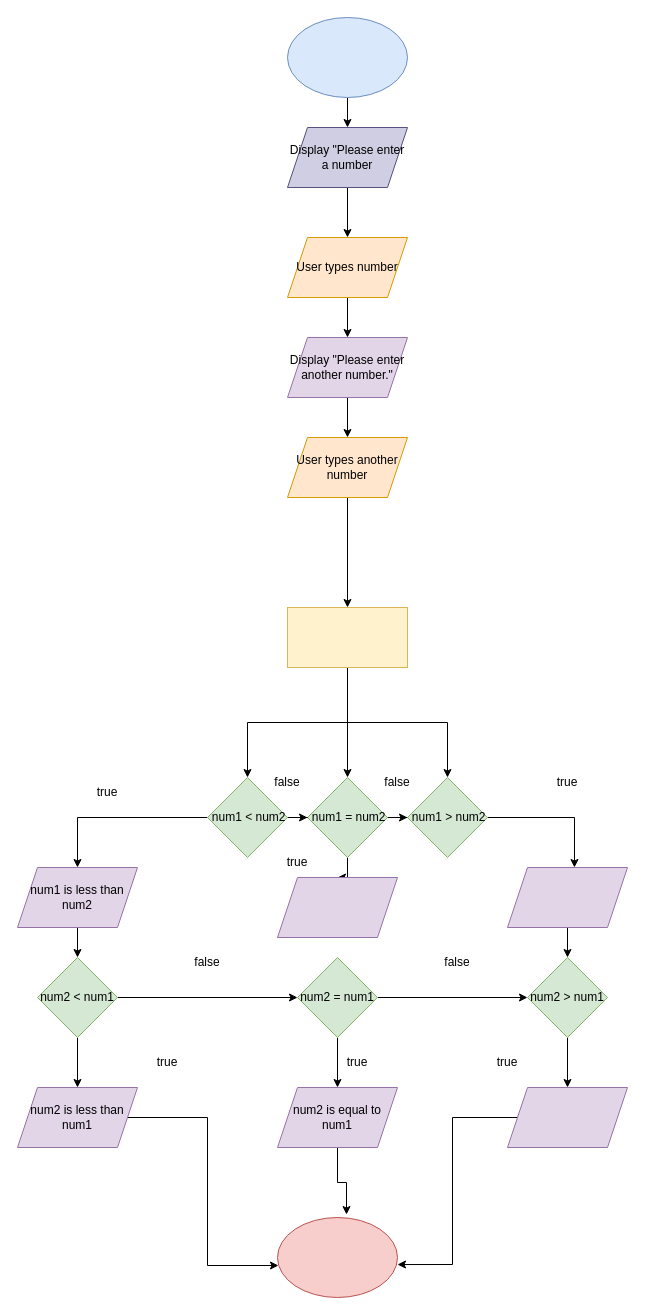
This 645x1315 diagram has some shape labels left out. The shapes that lost their labels are listed below. From the top down, each one's centre as x and y in pixels, then its label:
At [347,57]: "Start".
At [347,637]: "num1 =Convert.ToInt32() num2 = Convert.ToInt32()".
At [337,907]: "num1 is equal to num2".
At [567,897]: "num1 is greater than num2".
At [567,1117]: "num2 is greater than num1".
At [337,1257]: "End".
